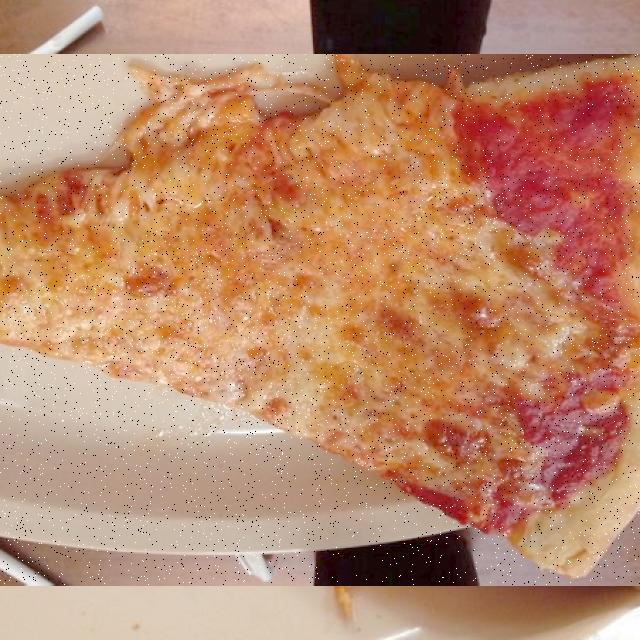Pizza: (0, 54, 640, 585)
